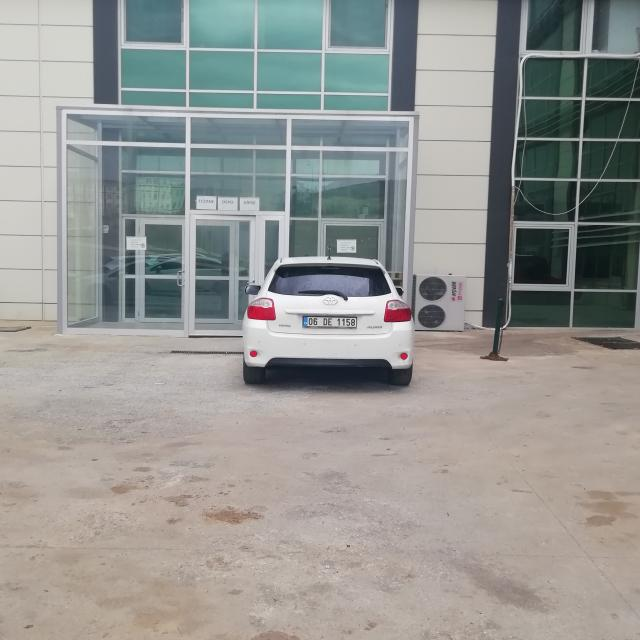license_plate: (303, 316, 357, 327)
